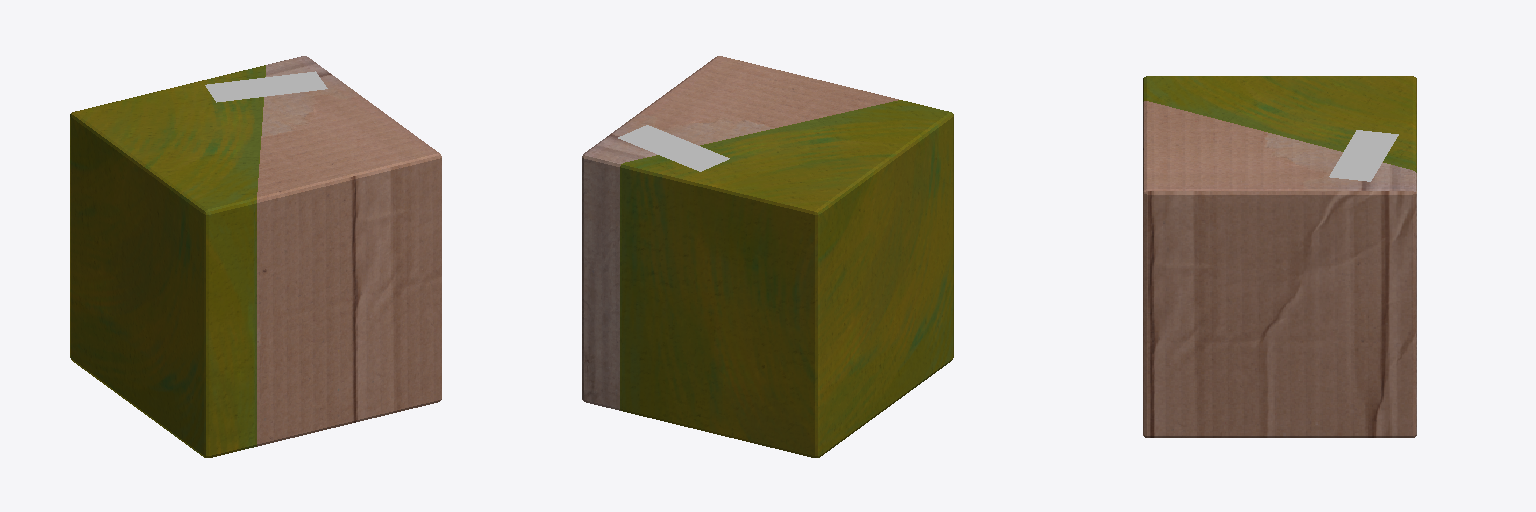
3 views of the same model, side by side, from view 1: azimuth 30°, elevation 25°; view 2: azimuth 150°, elevation 25°; view 3: azimuth 270°, elevation 25° (orthographic).
Parts seen in each view (by area): view 1: FOREST_GROUND_001; view 2: FOREST_GROUND_001; view 3: FOREST_GROUND_001.
Part boxes in pixels (x1,y1,x2,y2): FOREST_GROUND_001: (70,56,441,457); FOREST_GROUND_001: (582,56,953,457); FOREST_GROUND_001: (1143,76,1416,437).
Size of the model in its own units: 1 by 1.01 by 1.
Materials: 3 (2 with a texture image).